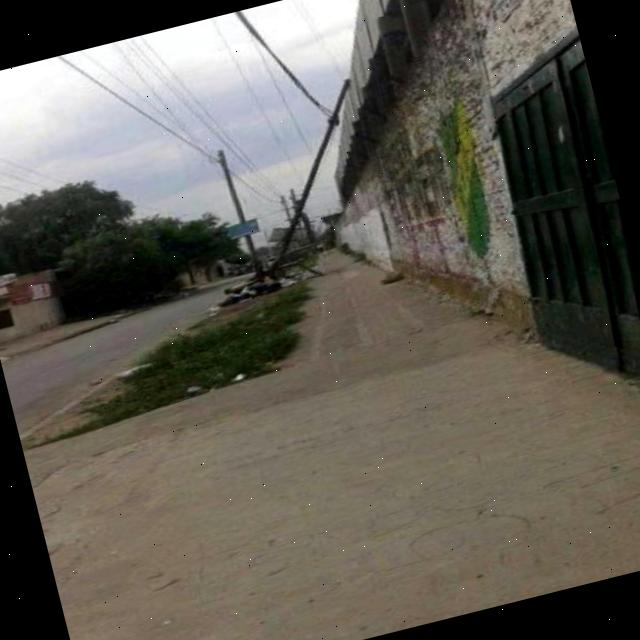Broken Pole: (266, 77, 354, 277)
